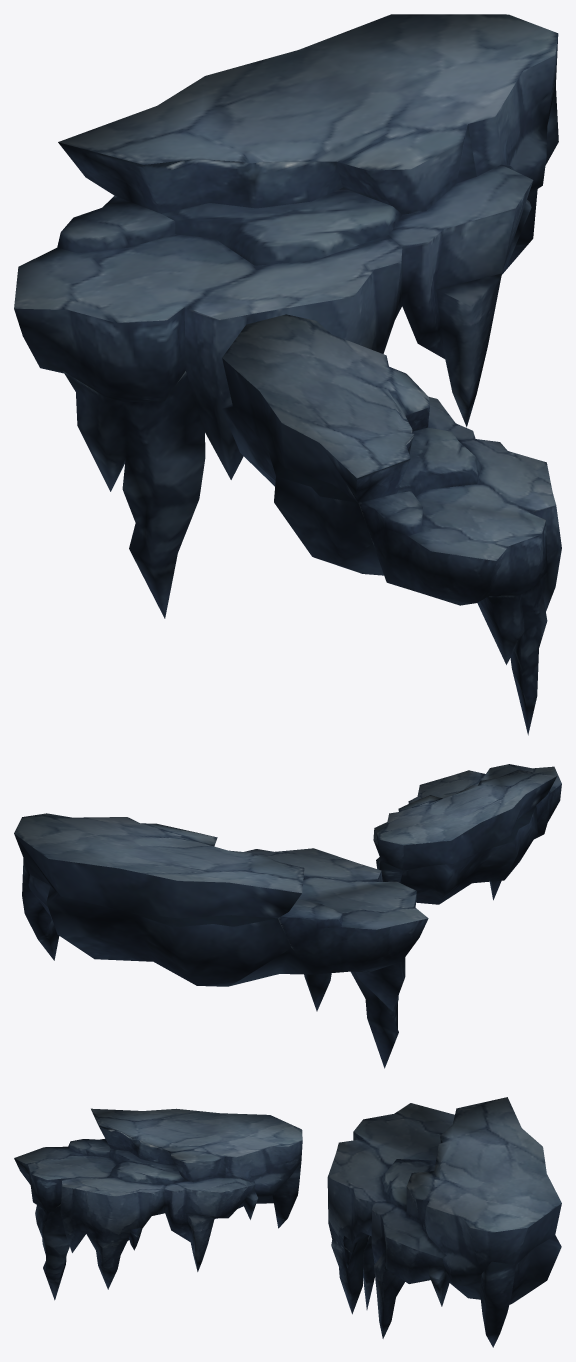
Rendered from Area_04_21.fbx.
3 views of the same model, one above another, from view 1: azimuth 30°, elevation 25°; view 2: azimuth 150°, elevation 25°; view 3: azimuth 270°, elevation 25° (orthographic). The views are drawn at different scales.
Visible parts, largest first — view 1: Area_04_21; view 2: Area_04_21; view 3: Area_04_21.
Part boxes in pixels (x1,y1,x2,y2): Area_04_21: (14,14,561,735); Area_04_21: (14,764,561,1068); Area_04_21: (14,1097,561,1347).
Size of the model in its own units: 3222 by 1916 by 4351.
